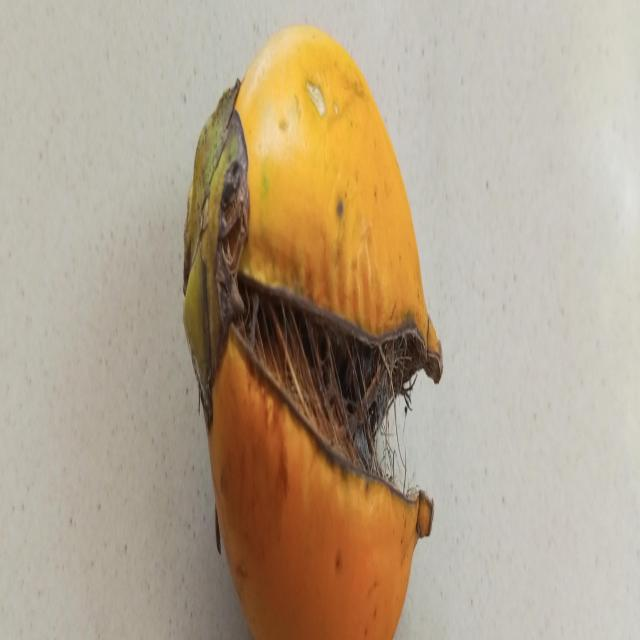damaged: (184, 25, 443, 640)
